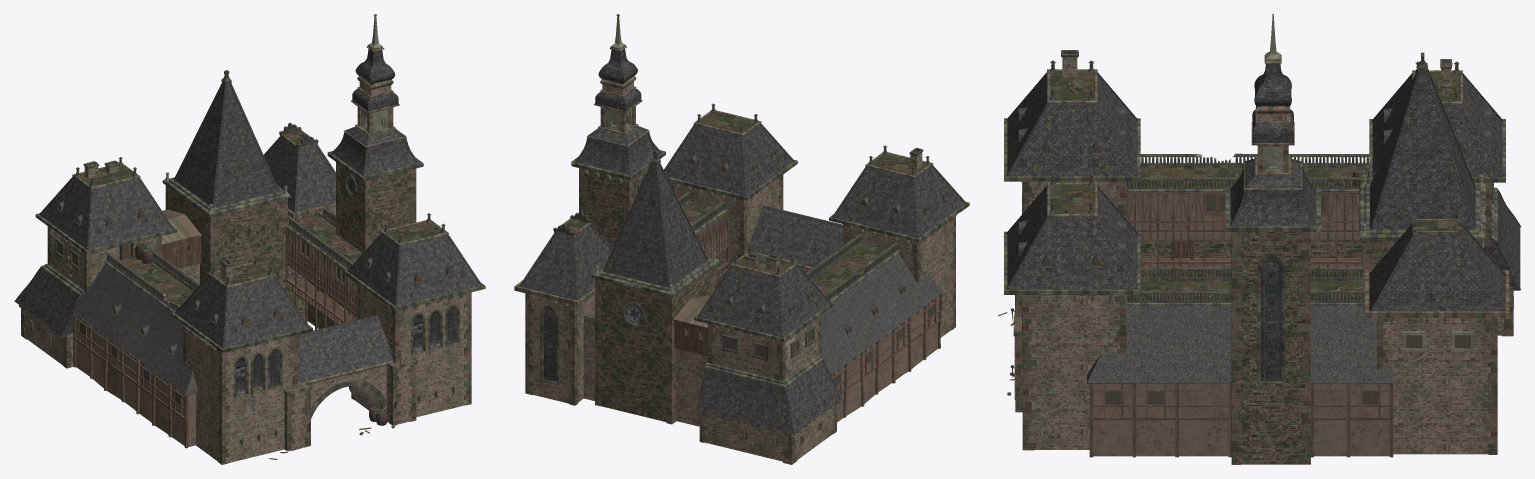
File: castle.gltf
3 views of the same model, side by side, from view 1: azimuth 30°, elevation 25°; view 2: azimuth 150°, elevation 25°; view 3: azimuth 270°, elevation 25° (orthographic). The views are drawn at different scales.
Parts seen in each view (by area): view 1: BldgLG_F_slateB, BldgLG_F_wallA, BldgLG_F_wallC, BldgLG_F_wallB_b, BldgLG_F_blocksB, BldgLG_F_slateA, BldgLG_F_beamA_b, BldgLG_F_plasterA, BldgLG_F_slateC, BldgLG_F_floorA, BldgLG_F_stoneB, BldgLG_F_blocksA (+5 smaller); view 2: BldgLG_F_slateB, BldgLG_F_wallA, BldgLG_F_wallC, BldgLG_F_wallB_b, BldgLG_F_slateA, BldgLG_F_blocksB, BldgLG_F_slateC, BldgLG_F_beamA_b, BldgLG_F_plasterA, BldgLG_F_floorA, BldgLG_F_stoneB, BldgLG_F_blocksA (+5 smaller); view 3: BldgLG_F_slateB, BldgLG_F_wallA, BldgLG_F_plasterA, BldgLG_F_slateA, BldgLG_F_wallC, BldgLG_F_wallB_b, BldgLG_F_beamA_b, BldgLG_F_blocksB, BldgLG_F_stoneB, BldgLG_F_slateC, BldgLG_F_floorA, BldgLG_F_blocksA (+4 smaller).
Part boxes in pixels (<box>): BldgLG_F_slateB: <box>16,50,480,382</box>; BldgLG_F_wallA: <box>24,82,467,463</box>; BldgLG_F_wallC: <box>168,166,412,328</box>; BldgLG_F_wallB_b: <box>21,162,471,464</box>; BldgLG_F_blocksB: <box>30,151,485,446</box>; BldgLG_F_slateA: <box>58,202,454,394</box>; BldgLG_F_beamA_b: <box>19,203,454,448</box>; BldgLG_F_plasterA: <box>76,230,357,446</box>; BldgLG_F_slateC: <box>14,49,482,348</box>; BldgLG_F_floorA: <box>78,130,441,305</box>; BldgLG_F_stoneB: <box>54,70,445,319</box>; BldgLG_F_blocksA: <box>72,45,448,385</box>; BldgLG_F_slateB: <box>521,50,964,432</box>; BldgLG_F_wallA: <box>529,82,953,461</box>; BldgLG_F_wallC: <box>583,167,713,421</box>; BldgLG_F_wallB_b: <box>525,168,955,464</box>; BldgLG_F_slateA: <box>688,149,945,374</box>; BldgLG_F_blocksB: <box>540,150,969,446</box>; BldgLG_F_slateC: <box>519,49,966,433</box>; BldgLG_F_beamA_b: <box>683,149,948,433</box>; BldgLG_F_plasterA: <box>700,213,939,422</box>; BldgLG_F_floorA: <box>566,111,927,339</box>; BldgLG_F_stoneB: <box>553,103,930,361</box>; BldgLG_F_blocksA: <box>514,44,933,305</box>; BldgLG_F_slateB: <box>1007,63,1520,311</box>; BldgLG_F_wallA: <box>1015,57,1504,454</box>; BldgLG_F_plasterA: <box>1093,194,1389,456</box>; BldgLG_F_slateA: <box>1018,109,1491,383</box>; BldgLG_F_wallC: <box>1140,232,1396,464</box>; BldgLG_F_wallB_b: <box>1014,181,1513,464</box>; BldgLG_F_beamA_b: <box>1042,144,1467,457</box>; BldgLG_F_blocksB: <box>1004,118,1513,384</box>; BldgLG_F_stoneB: <box>1049,50,1493,302</box>; BldgLG_F_slateC: <box>1003,63,1520,311</box>; BldgLG_F_floorA: <box>1050,70,1505,310</box>; BldgLG_F_blocksA: <box>1047,53,1509,317</box>.
Size of what is drawn, in the model's own units: 25.87 by 26.81 by 29.03.
23 materials, 23 textured.
